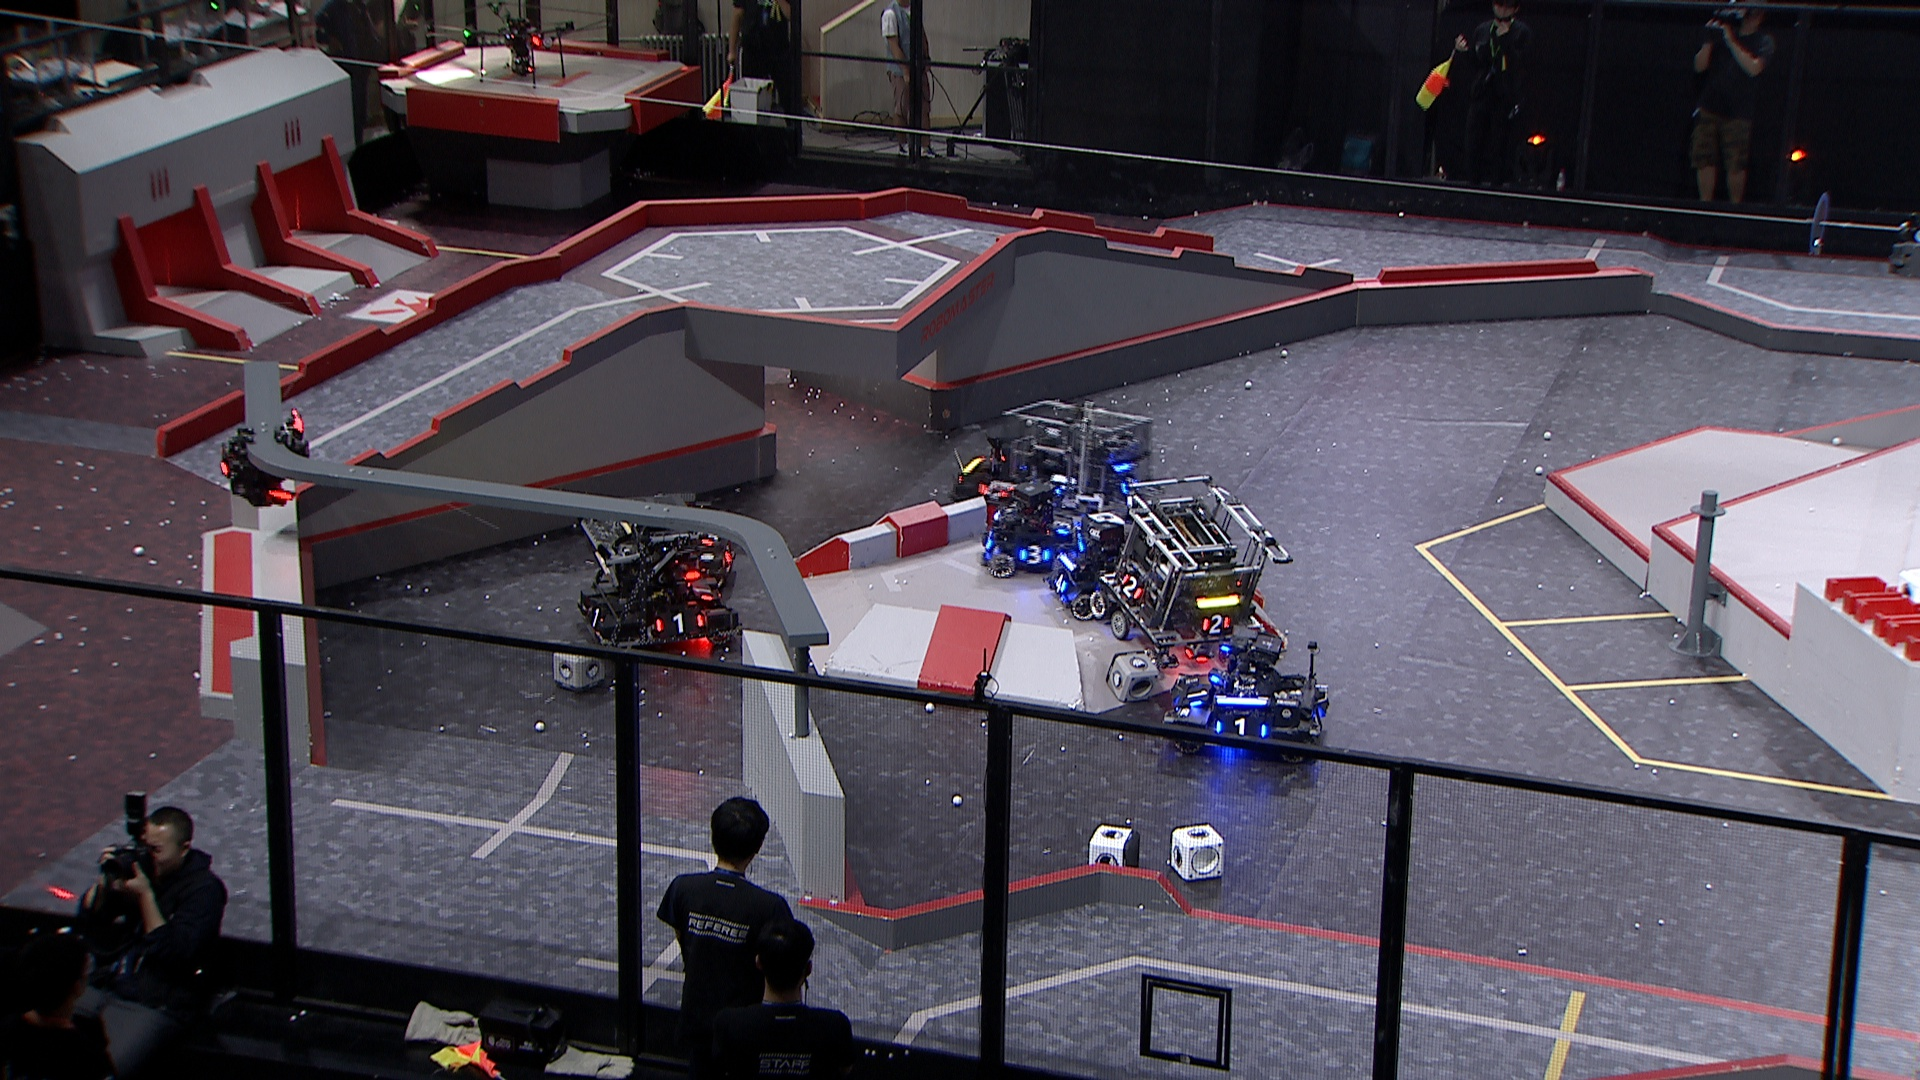armor: (651, 612, 705, 637), (1211, 716, 1267, 740), (1015, 543, 1054, 567), (1197, 613, 1234, 637), (1116, 571, 1145, 600), (975, 479, 1007, 501), (1185, 684, 1211, 709), (584, 604, 607, 629), (688, 584, 716, 604), (1117, 476, 1141, 498), (1050, 572, 1069, 593), (698, 531, 721, 549), (1311, 709, 1328, 732), (1054, 517, 1073, 535)
car: (1088, 477, 1294, 669), (571, 491, 740, 655), (1163, 624, 1337, 766), (997, 401, 1154, 545), (978, 480, 1091, 578), (1044, 529, 1155, 622), (949, 433, 1044, 509), (659, 498, 740, 572)
watcher: (215, 409, 311, 509)
